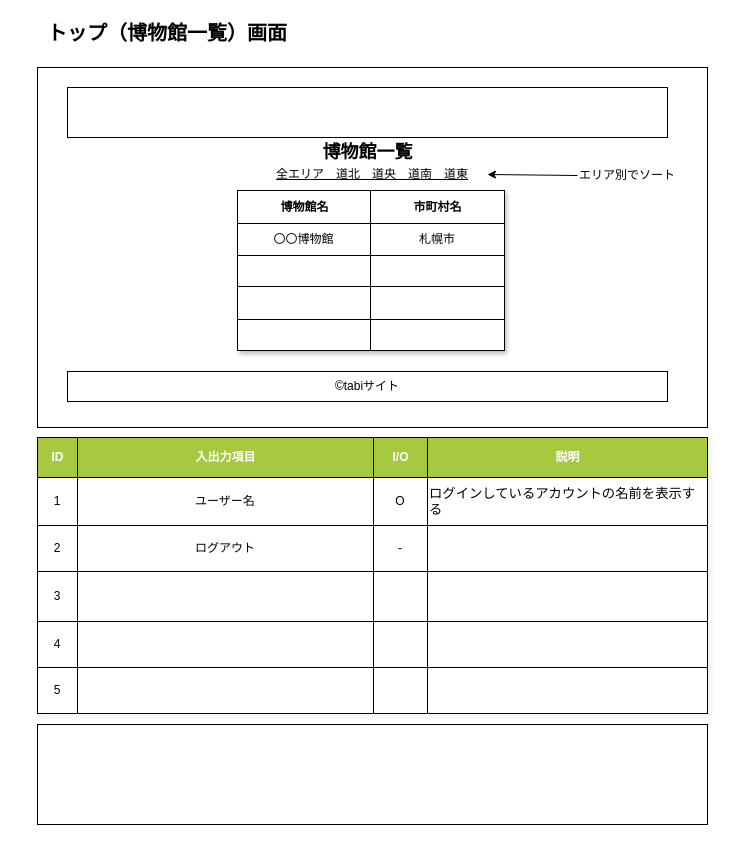
Image size: 731x842. Some labels were removed from this diagram. Here are the shapes that lost their labels. From the top down, the centre of each, then its label:
[367,112]: 北海道の博物館 （ユーザー名）さんがログイン中 ログアウト
[372,774]: ■エリア別リンク押下 ・トップ（博物館一覧）画面に遷移しエリア別に博物館一覧を表示する 。 ■ログアウトリンク押下 ・ログイン画面に遷移する。
